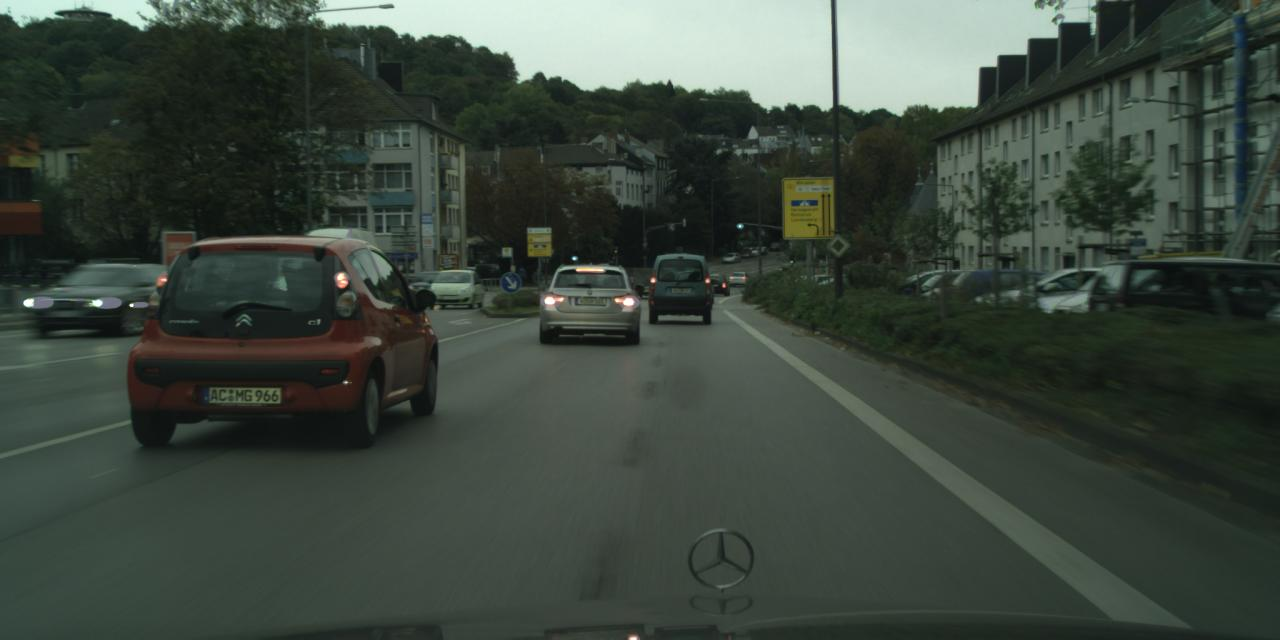ped: (517, 264, 526, 288)
